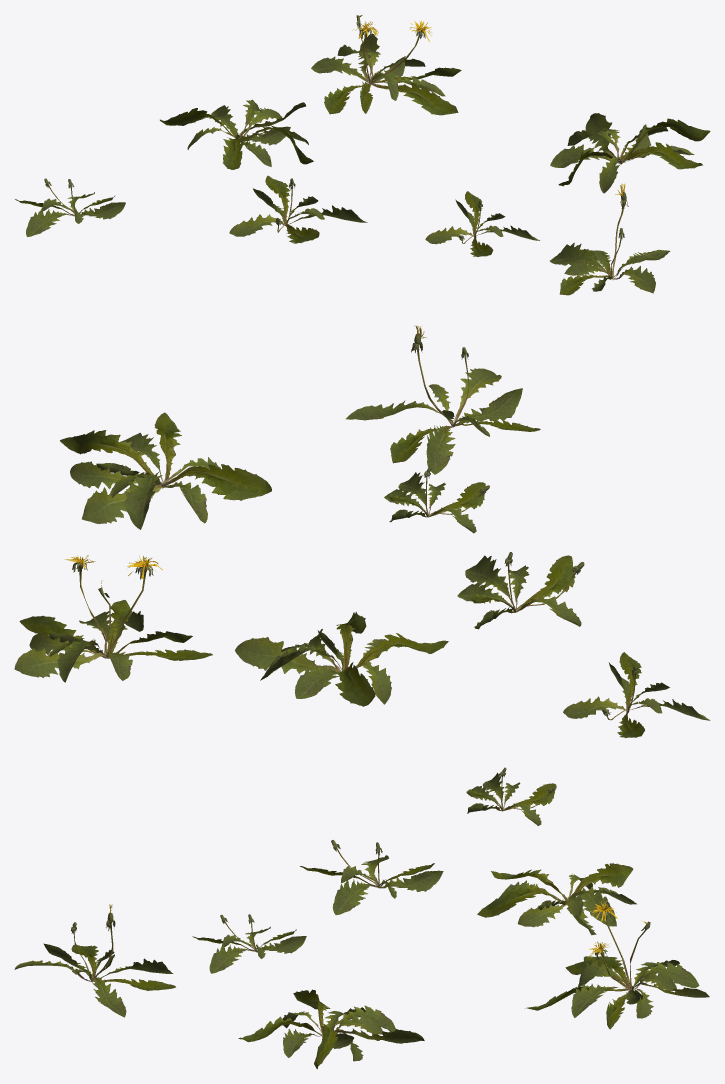
Rendered from Scan_Dandelions_A.fbx.
3 renders of one model, top to bottom at view 1: azimuth 30°, elevation 25°; view 2: azimuth 150°, elevation 25°; view 3: azimuth 270°, elevation 25°, orthographic. The views are drawn at different scales.
Parts seen in each view (by area): view 1: Scan_Dandelions_A_LOD0; view 2: Scan_Dandelions_A_LOD0; view 3: Scan_Dandelions_A_LOD0.
Boxes of the visible parts, bbox=[...] form: Scan_Dandelions_A_LOD0: bbox=[15, 15, 710, 295]; Scan_Dandelions_A_LOD0: bbox=[14, 325, 710, 738]; Scan_Dandelions_A_LOD0: bbox=[14, 767, 709, 1068].
Size of what is drawn, in the model's own units: 0.9877 by 0.1379 by 0.9543.
